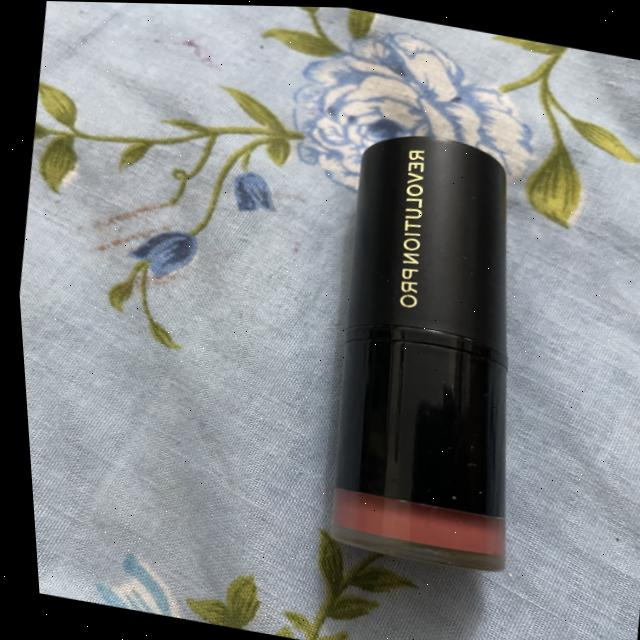lip stick: (254, 76, 609, 600)
